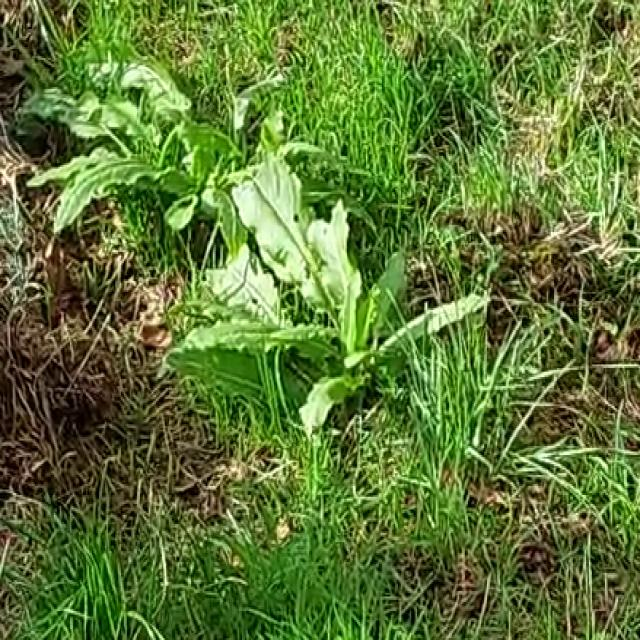organic waste: (179, 162, 487, 442), (3, 33, 302, 259)
